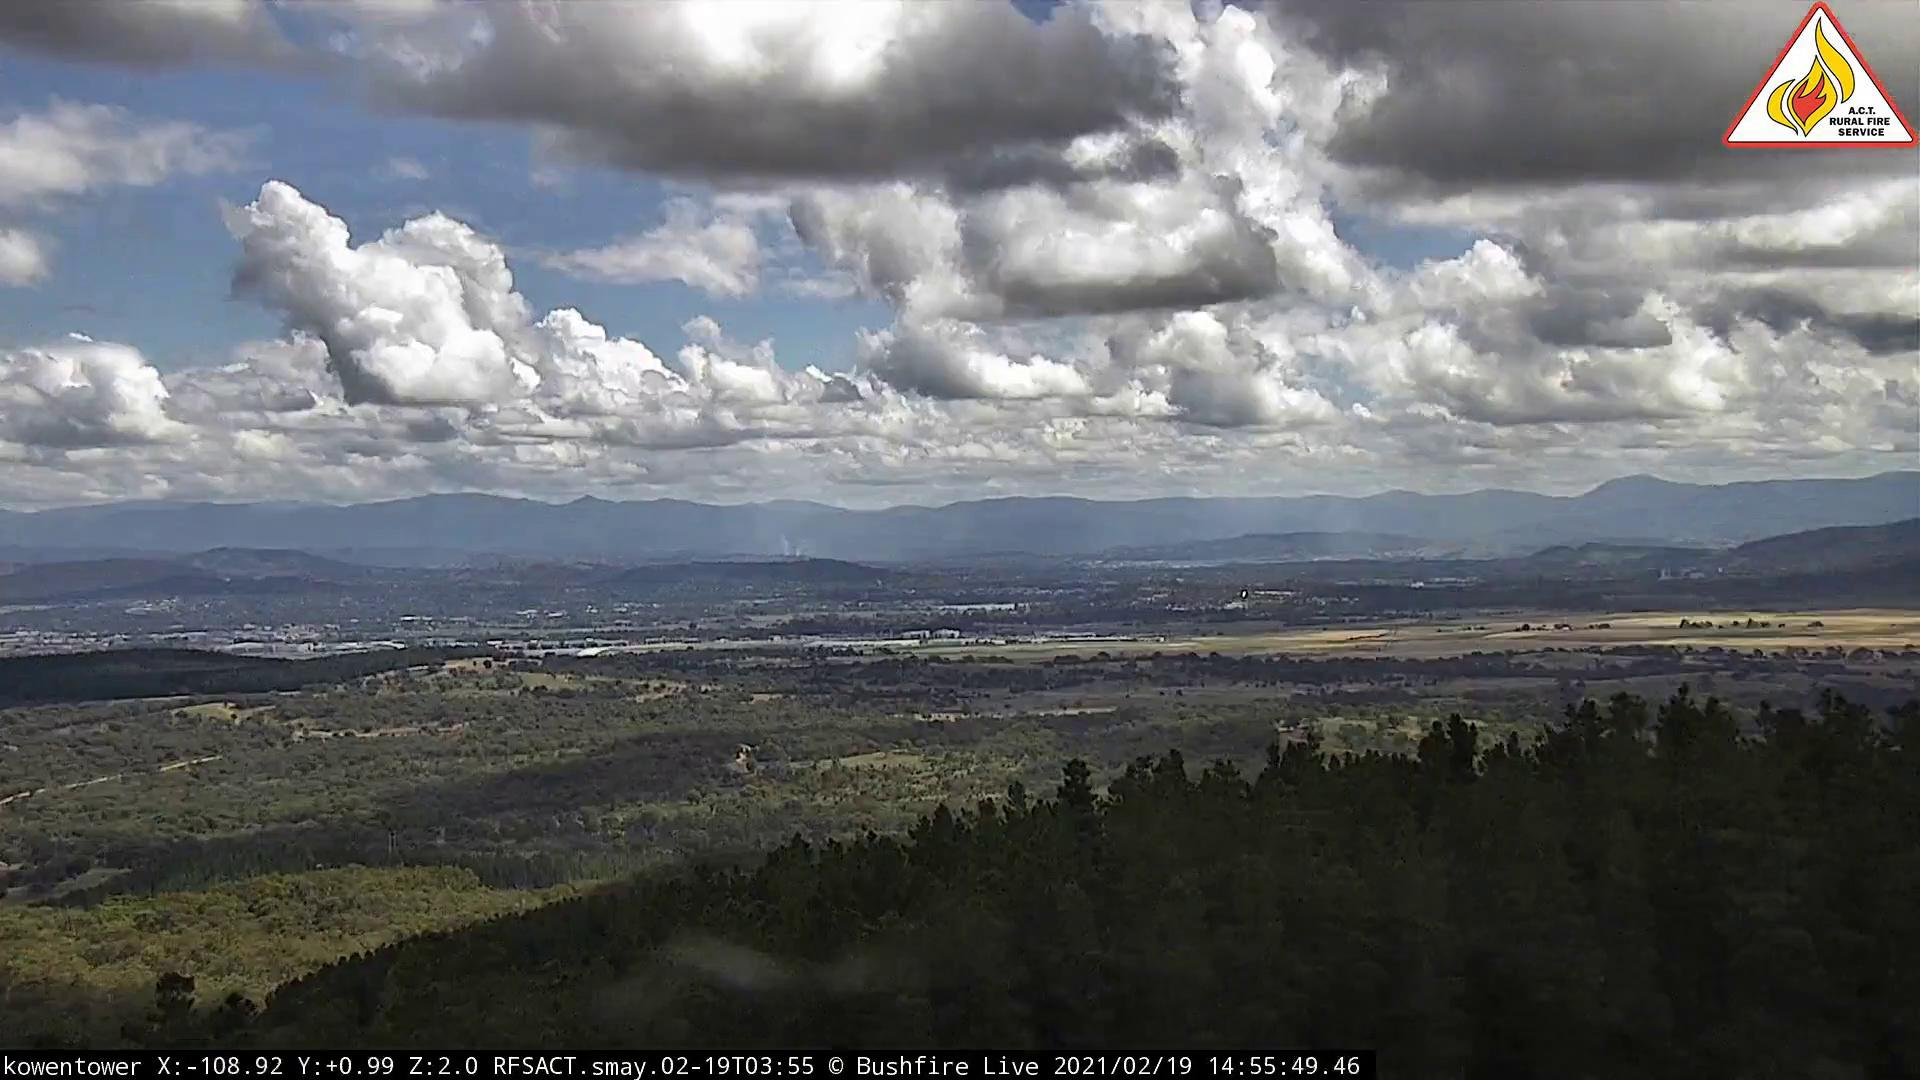Smoke: (779, 529, 815, 564)
